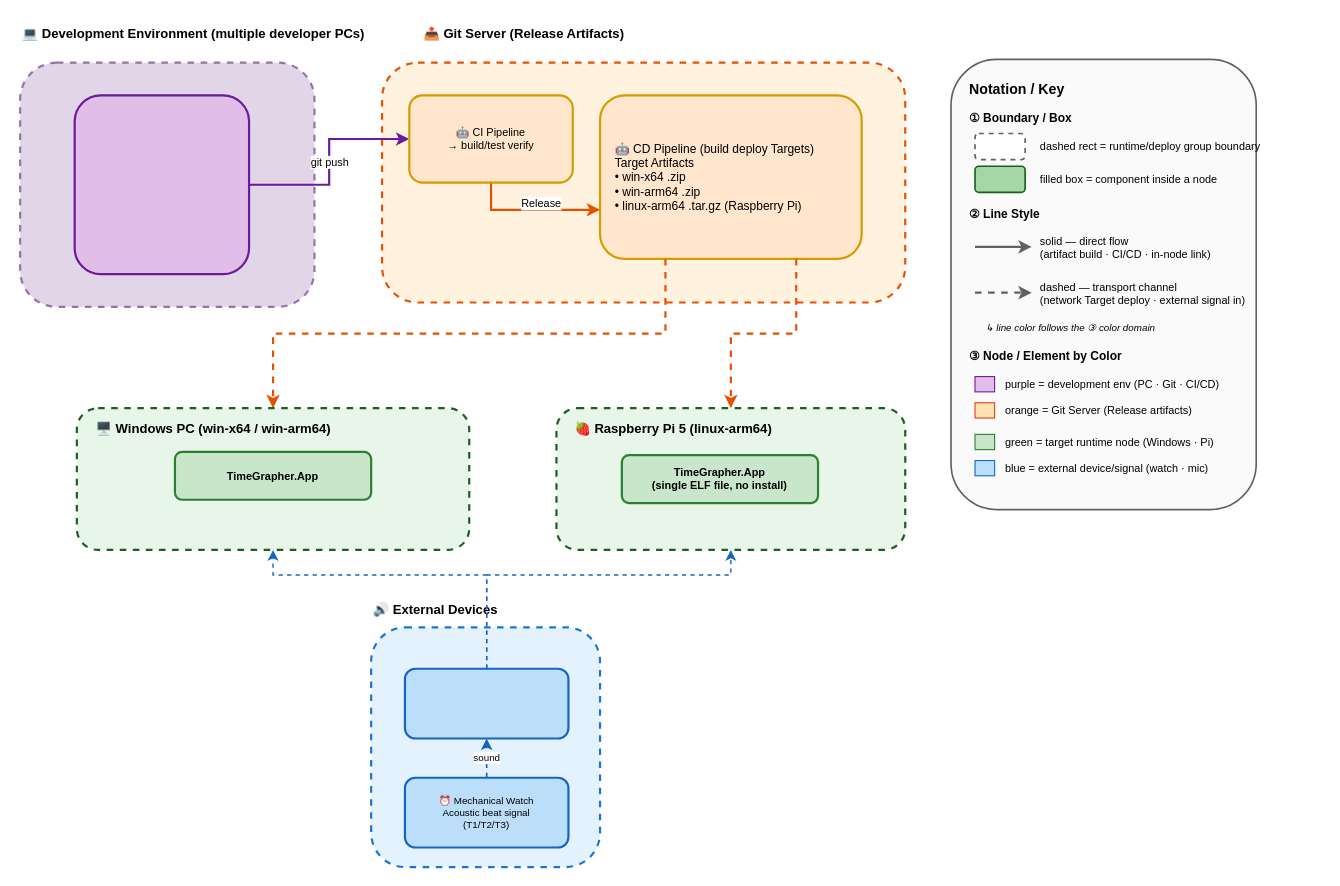
Some shapes in this 1340 by 886 pixel diagram are drawn without their labels. Here are the shapes that lost their labels. From the top down, the centre of each, then its label:
(161,184): Developer PC (VS Code) • C#/.NET development • Source Code
(486,703): 🎙️ Microphone/Pickup acoustic → electrical signal
